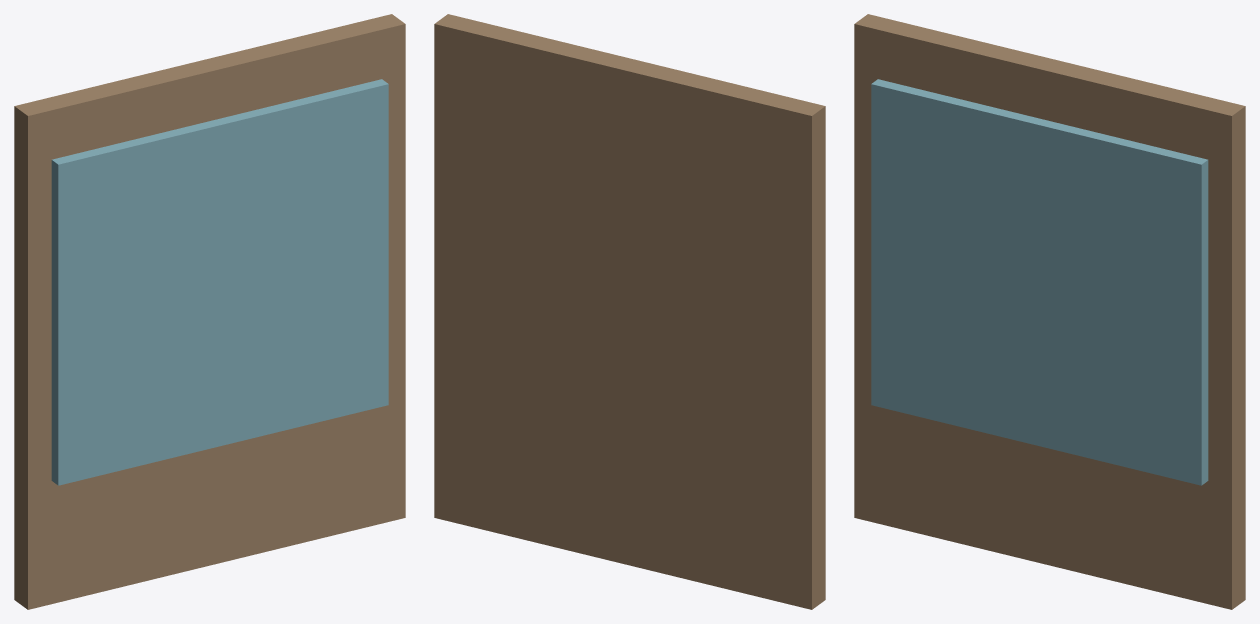
The model's file is kit_shop_door.glb.
3 views of the same model, side by side, from view 1: azimuth 30°, elevation 25°; view 2: azimuth 150°, elevation 25°; view 3: azimuth 330°, elevation 25° (orthographic).
Visible parts, largest first — view 1: kit_shop_door-col; view 2: kit_shop_door-col; view 3: kit_shop_door-col.
Part boxes in pixels (x1,y1,x2,y2): kit_shop_door-col: [14, 14, 405, 609]; kit_shop_door-col: [434, 14, 825, 609]; kit_shop_door-col: [854, 14, 1245, 609].
Size of the model in its own units: 2 by 2.5 by 0.1875.
